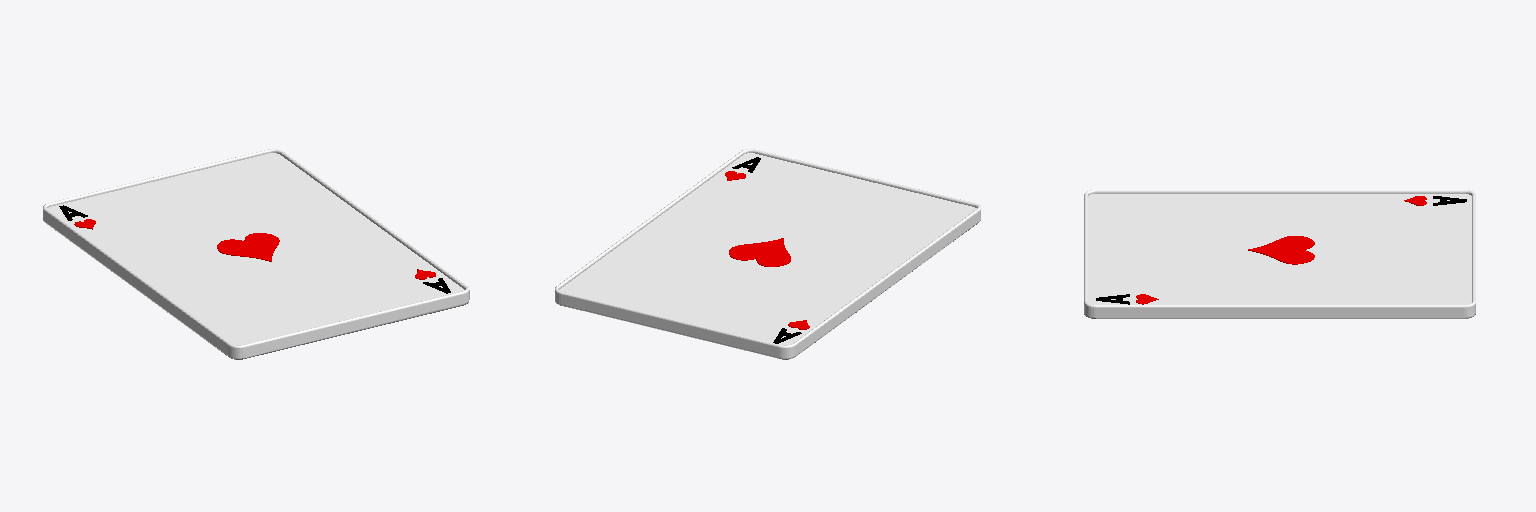
File: hearts_1.obj
3 views of the same model, side by side, from view 1: azimuth 30°, elevation 25°; view 2: azimuth 150°, elevation 25°; view 3: azimuth 270°, elevation 25° (orthographic).
Visible parts, largest first — view 1: rect4266.035, rect4266.089, path3940-9-3.006, rect4266.110; view 2: rect4266.035, rect4266.089, path3940-9-3.006; view 3: rect4266.035, rect4266.089, path3940-9-3.006.
Part boxes in pixels (x1,y1,x2,y2): rect4266.035: (47,153,464,344); rect4266.089: (43,149,469,358); path3940-9-3.006: (217,233,279,261); rect4266.110: (46,223,468,359); rect4266.035: (559,153,976,344); rect4266.089: (555,149,980,358); path3940-9-3.006: (729,238,790,266); rect4266.035: (1088,194,1471,304); rect4266.089: (1084,190,1475,318); path3940-9-3.006: (1248,236,1314,264).
Size of the model in its own units: 2.88 by 0.1966 by 4.08.